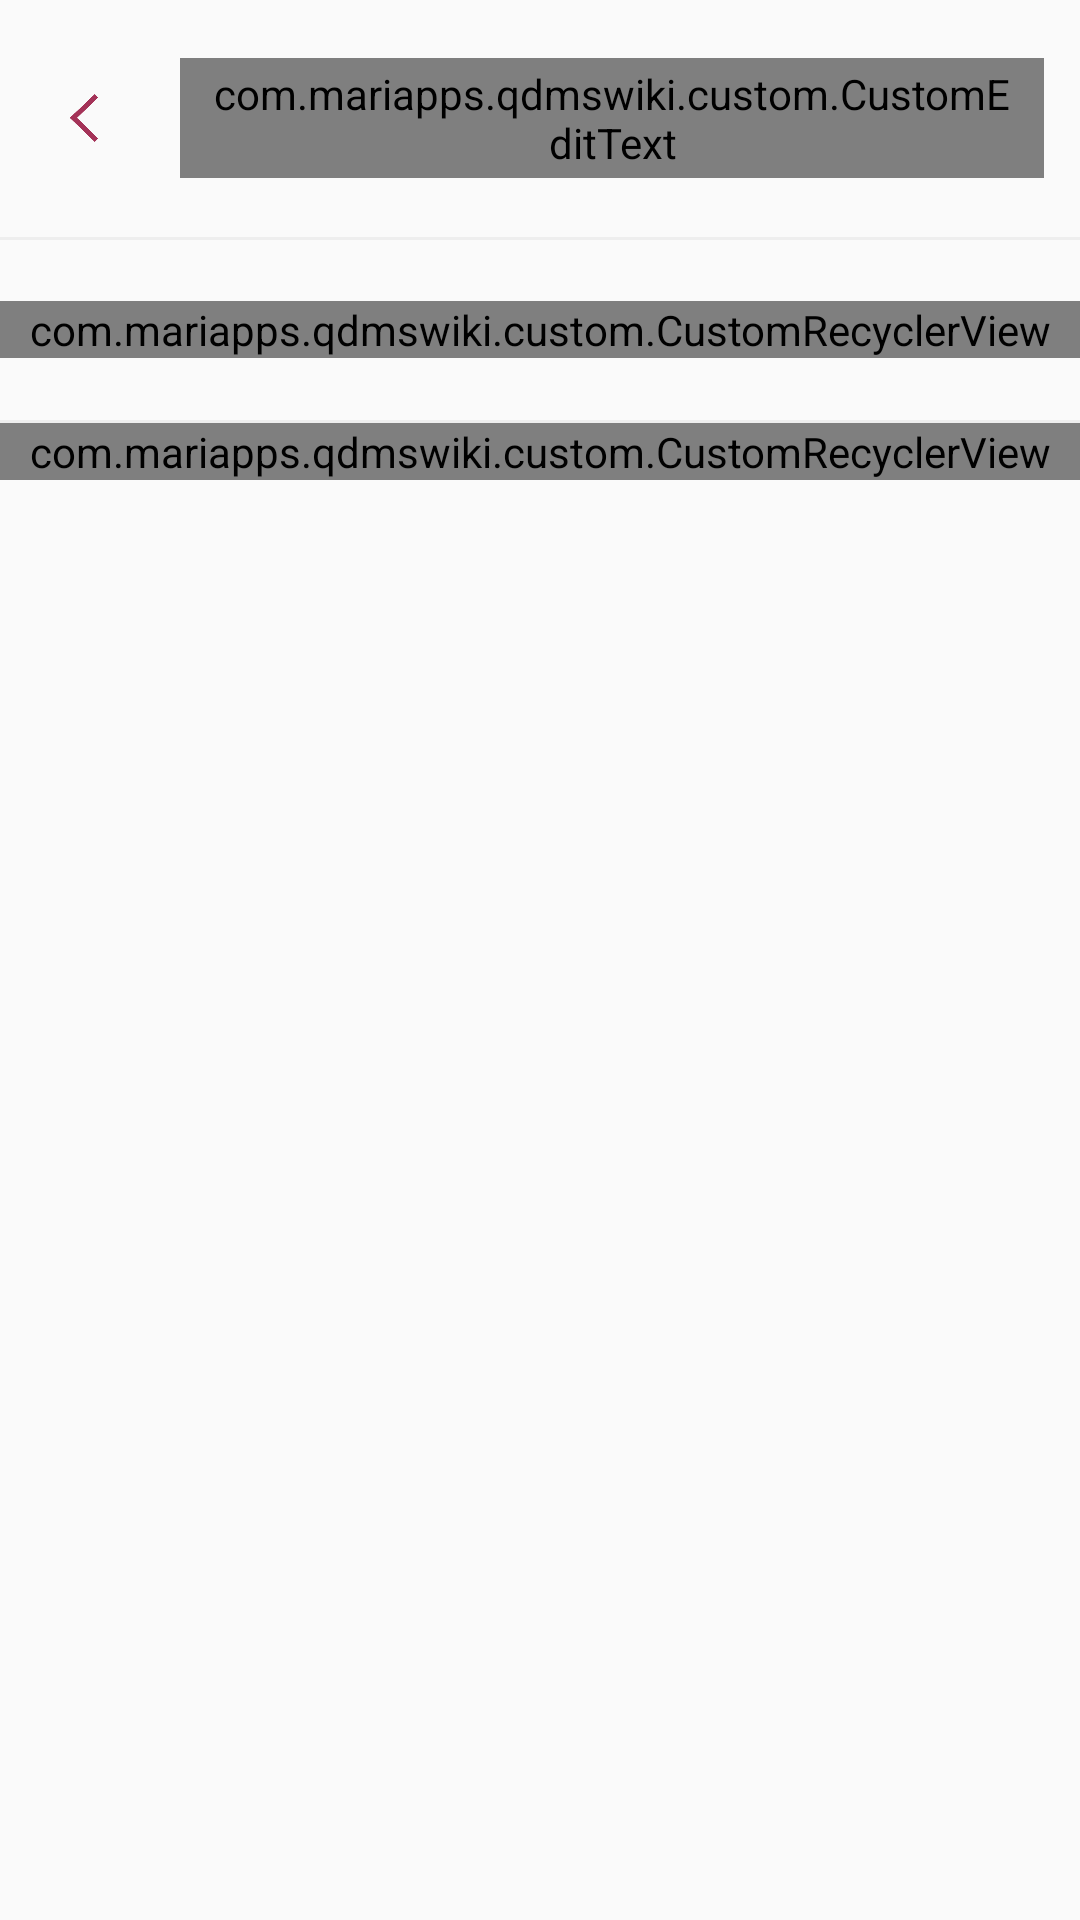

Named icons in this screenshot (1080 x 1920) and their centers, [x,y]:
back: [84,118]
